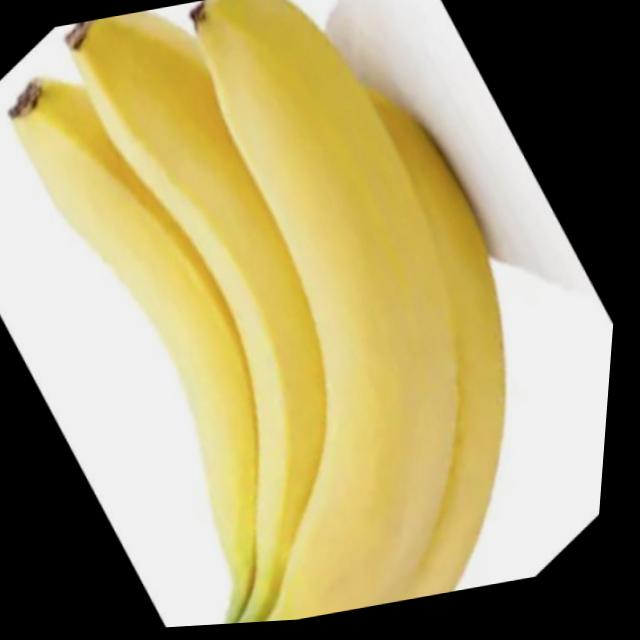Banana: (0, 0, 561, 640)
